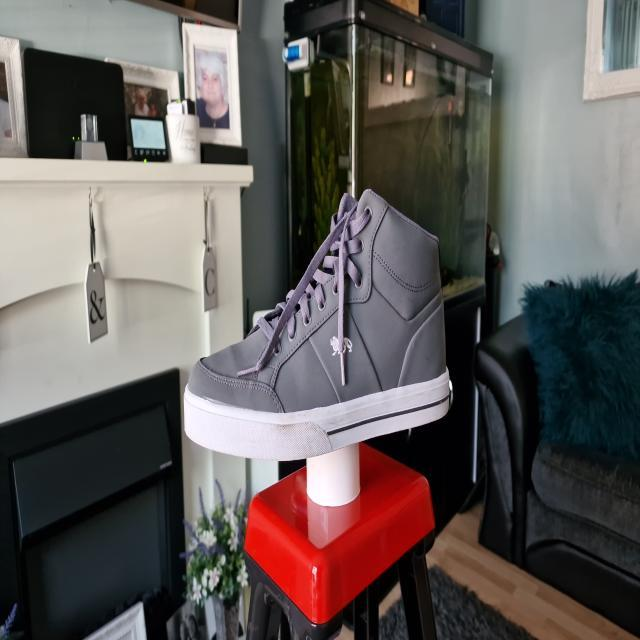shoes: (183, 186, 450, 462)
